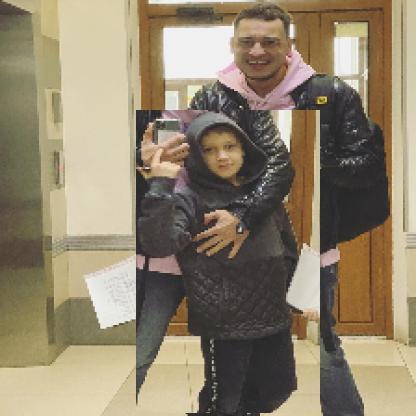child: (137, 111, 322, 415)
